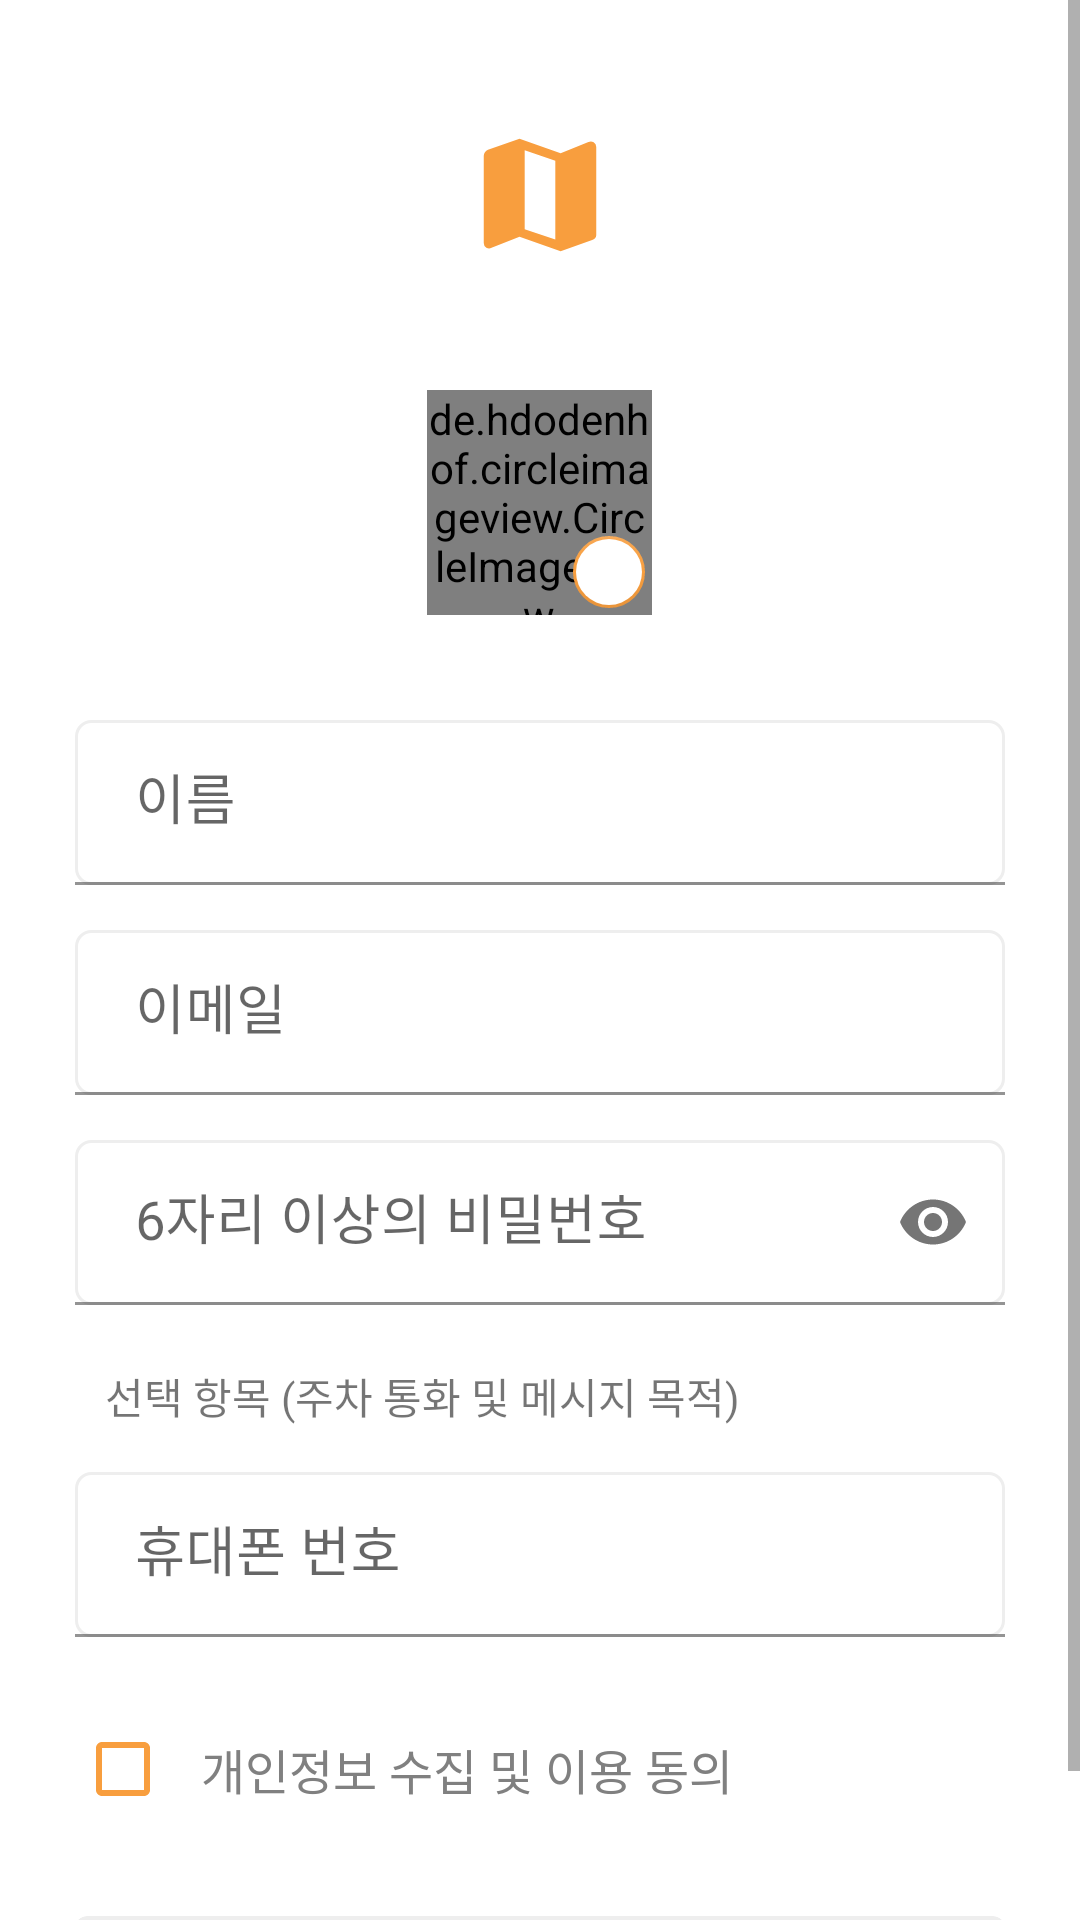

Icons on this 1080px x 1920px Android screen, each with its box as bbox=[x1, y1, x2, y2]:
mapfll: bbox=[483, 138, 597, 252]
